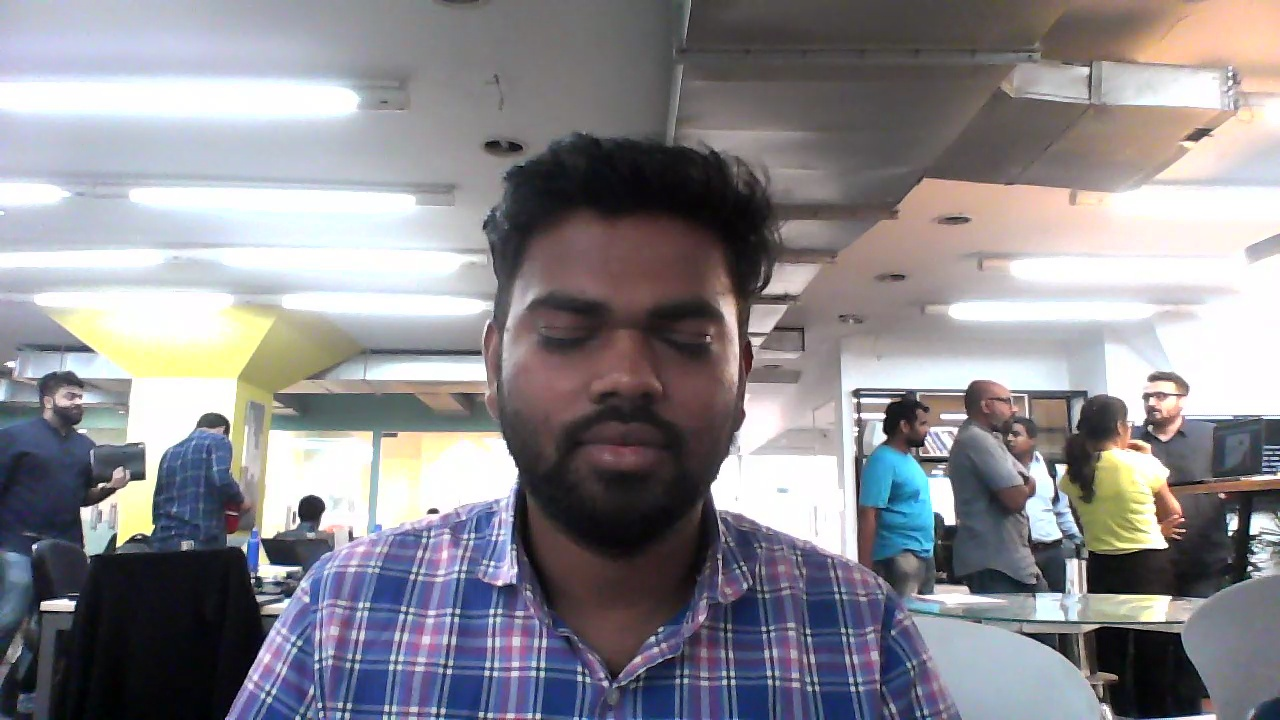closed: (477, 130, 764, 544)
